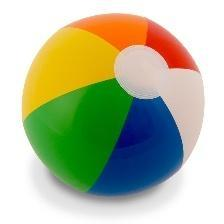Sports-Ball: (22, 12, 205, 199)
